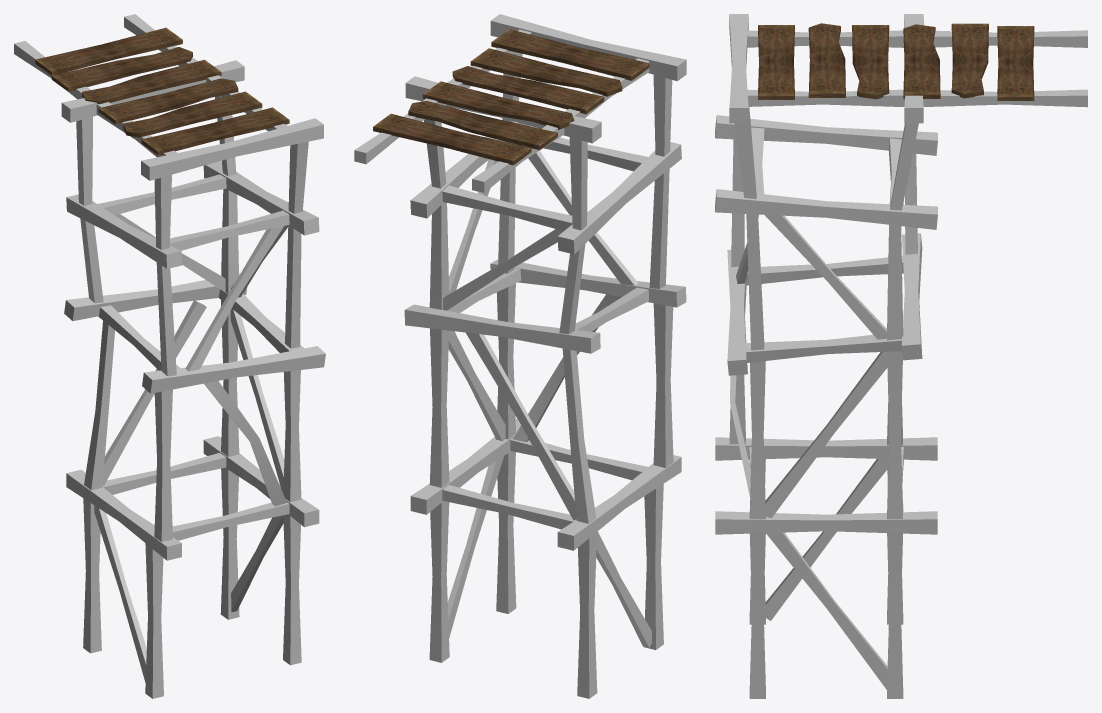
The model's file is environment_common_mudiaoqiao_001_a.FBX.
3 views of the same model, side by side, from view 1: azimuth 30°, elevation 25°; view 2: azimuth 150°, elevation 25°; view 3: azimuth 270°, elevation 25° (orthographic). The views are drawn at different scales.
Parts seen in each view (by area): view 1: environment_common_mudiaoqiao_001_a, environment_common_mudiaoqiao_001_c; view 2: environment_common_mudiaoqiao_001_a, environment_common_mudiaoqiao_001_c; view 3: environment_common_mudiaoqiao_001_a, environment_common_mudiaoqiao_001_c.
Part boxes in pixels (left/top/right/bottom): environment_common_mudiaoqiao_001_a: left=14, top=14, right=325, bottom=698; environment_common_mudiaoqiao_001_c: left=35, top=27, right=289, bottom=155; environment_common_mudiaoqiao_001_a: left=354, top=14, right=686, bottom=698; environment_common_mudiaoqiao_001_c: left=373, top=29, right=649, bottom=165; environment_common_mudiaoqiao_001_a: left=715, top=14, right=1087, bottom=698; environment_common_mudiaoqiao_001_c: left=758, top=23, right=1034, bottom=100.
Size of the model in its own units: 402 by 1179 by 665.
